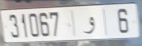0: (28, 11, 40, 37)
1: (20, 12, 28, 38)
3: (9, 14, 19, 38)
6: (117, 8, 130, 34), (39, 11, 50, 37)
7: (49, 10, 60, 38)
waw: (83, 15, 96, 36)
